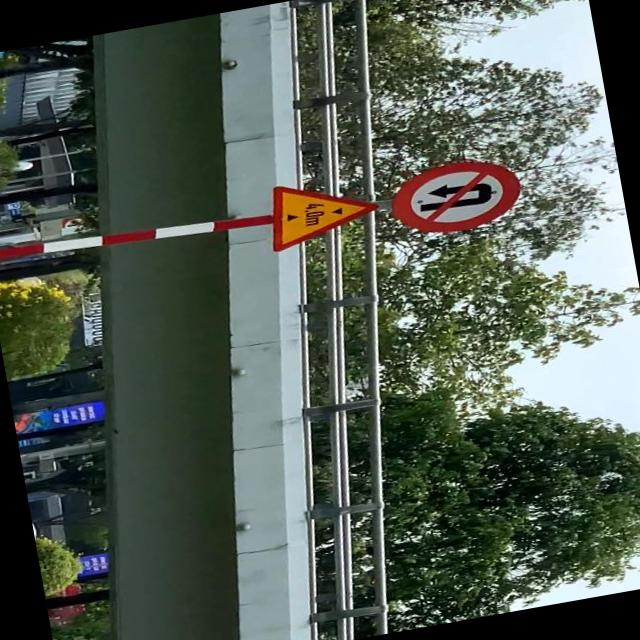P-124a1: (386, 152, 522, 240)
W-239b: (263, 170, 382, 252)
